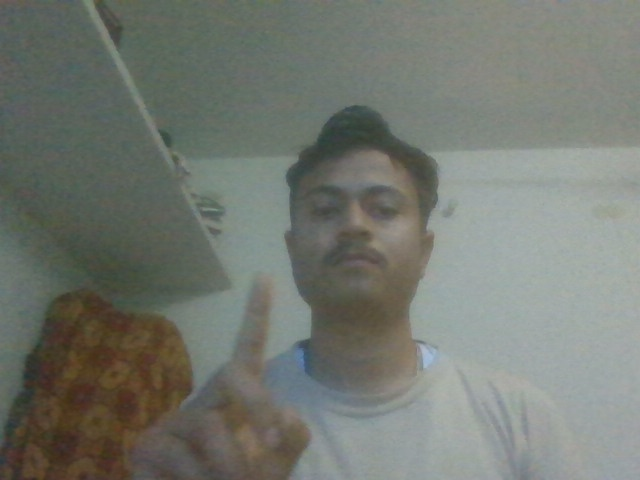No: (156, 269, 314, 480)
